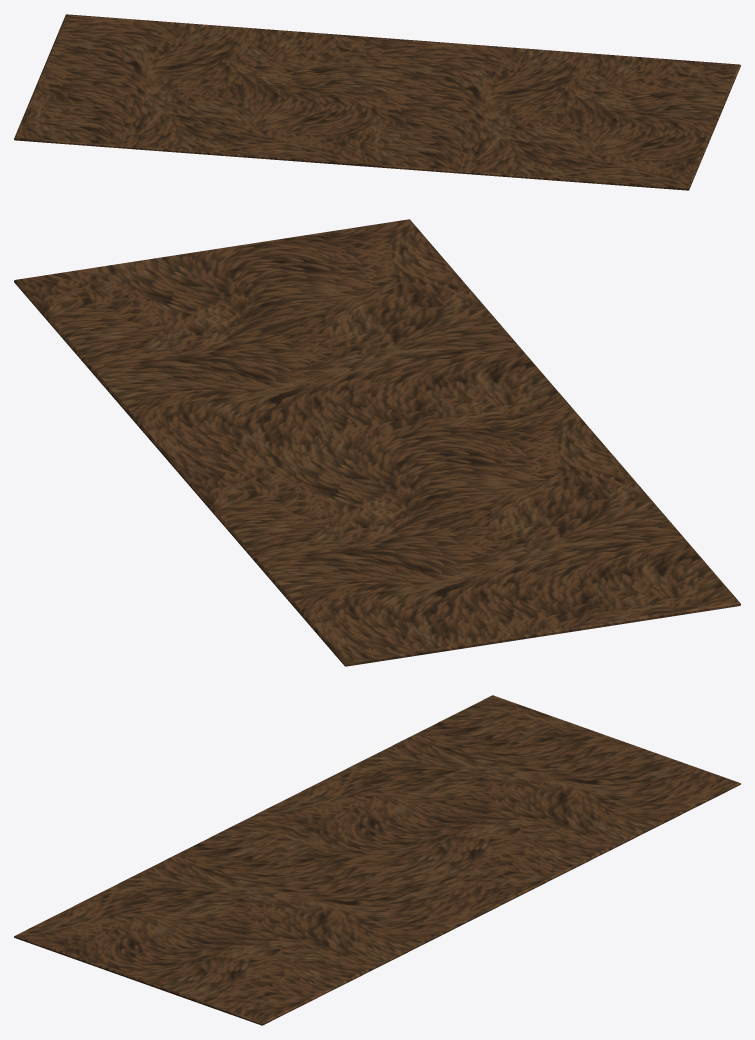
Rendered from fur_rug.glb.
The picture shows the model from 3 angles, top to bottom: view 1: azimuth 30°, elevation 25°; view 2: azimuth 150°, elevation 25°; view 3: azimuth 270°, elevation 25°; orthographic projection. The views are drawn at different scales.
Visible parts, largest first — view 1: Rug; view 2: Rug; view 3: Rug.
Boxes of the visible parts, <box> form: Rug: <box>14,14,740,190</box>; Rug: <box>14,219,740,666</box>; Rug: <box>14,695,740,1025</box>.
Size of the model in its own units: 14.46 by 0.0679 by 13.5.
Materials: 1 (1 with a texture image).
